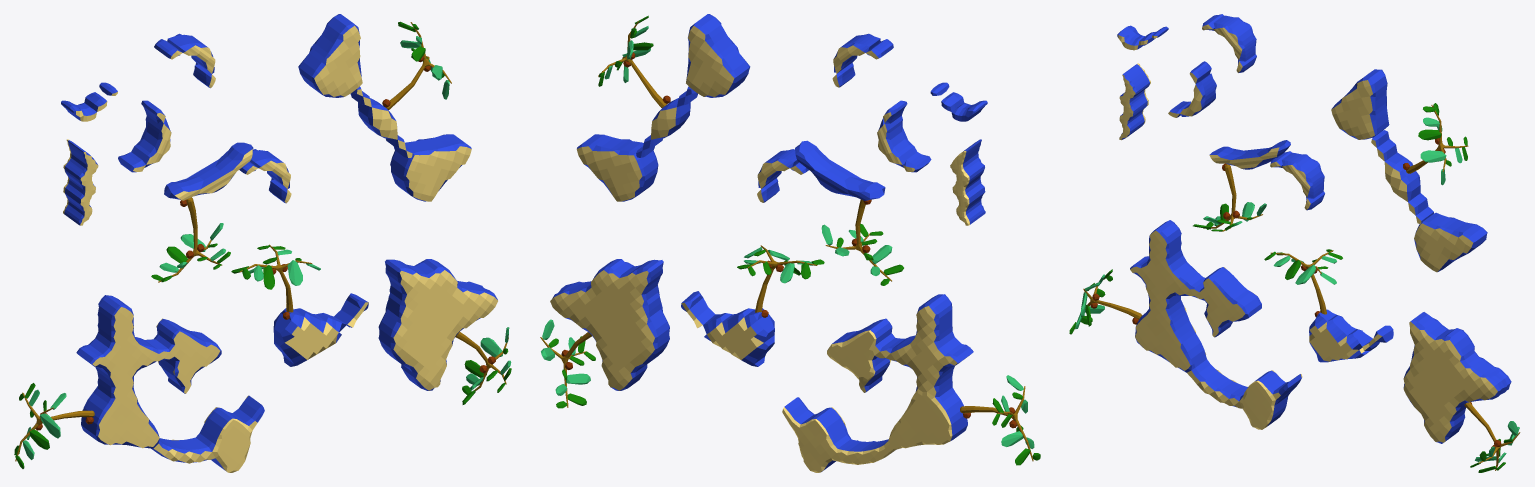
File: OceanLevel.fbx
3 renders of one model, left to right at view 1: azimuth 30°, elevation 25°; view 2: azimuth 150°, elevation 25°; view 3: azimuth 330°, elevation 25°, orthographic. The views are drawn at different scales.
Parts seen in each view (by area): view 1: Cube.017, Cube.031, Cube.037, Cube.038, Cube.021, Cube.032, Cylinder.013, Cube.033, Cube.039, Cube.035, Cube.034, Cylinder.011 (+1 smaller); view 2: Cube.017, Cube.031, Cube.037, Cube.021, Cube.038, Cube.032, Cylinder.013, Cube.033, Cube.039, Cube.035, Cube.034, Cylinder.011 (+2 smaller); view 3: Cube.017, Cube.031, Cube.037, Cube.038, Cube.021, Cube.039, Cylinder.013, Cube.035, Cube.034, Cube.032, Cube.033, Cylinder.011.
Part boxes in pixels (left/top/right/bottom): Cube.017: left=76, top=295, right=264, bottom=472; Cube.031: left=378, top=259, right=497, bottom=390; Cube.037: left=298, top=14, right=362, bottom=97; Cube.038: left=390, top=134, right=471, bottom=201; Cube.021: left=273, top=293, right=368, bottom=366; Cube.032: left=164, top=142, right=253, bottom=200; Cylinder.013: left=63, top=139, right=98, bottom=225; Cube.033: left=118, top=100, right=171, bottom=172; Cube.039: left=350, top=86, right=412, bottom=157; Cube.035: left=154, top=33, right=215, bottom=88; Cube.034: left=239, top=149, right=291, bottom=203; Cylinder.011: left=61, top=82, right=117, bottom=121; Cube.017: left=782, top=294, right=973, bottom=472; Cube.031: left=550, top=259, right=669, bottom=390; Cube.037: left=686, top=14, right=750, bottom=97; Cube.021: left=681, top=291, right=774, bottom=366; Cube.038: left=576, top=134, right=658, bottom=201; Cube.032: left=795, top=140, right=885, bottom=200; Cylinder.013: left=950, top=139, right=985, bottom=225; Cube.033: left=877, top=100, right=931, bottom=172; Cube.039: left=636, top=86, right=697, bottom=157; Cube.035: left=832, top=33, right=893, bottom=87; Cube.034: left=757, top=149, right=808, bottom=202; Cylinder.011: left=930, top=82, right=987, bottom=121; Cube.017: left=1130, top=220, right=1302, bottom=429; Cube.031: left=1403, top=312, right=1511, bottom=443; Cube.037: left=1331, top=69, right=1389, bottom=139; Cube.038: left=1414, top=212, right=1487, bottom=272; Cube.021: left=1309, top=309, right=1393, bottom=362; Cube.039: left=1371, top=130, right=1433, bottom=224; Cylinder.013: left=1119, top=63, right=1150, bottom=140; Cube.035: left=1202, top=14, right=1256, bottom=72; Cube.034: left=1270, top=151, right=1324, bottom=210; Cube.032: left=1209, top=140, right=1290, bottom=169; Cube.033: left=1168, top=61, right=1216, bottom=117; Cylinder.011: left=1117, top=25, right=1168, bottom=50.
Bounding box in the file's own units: 8111 × 6873 × 1257.
